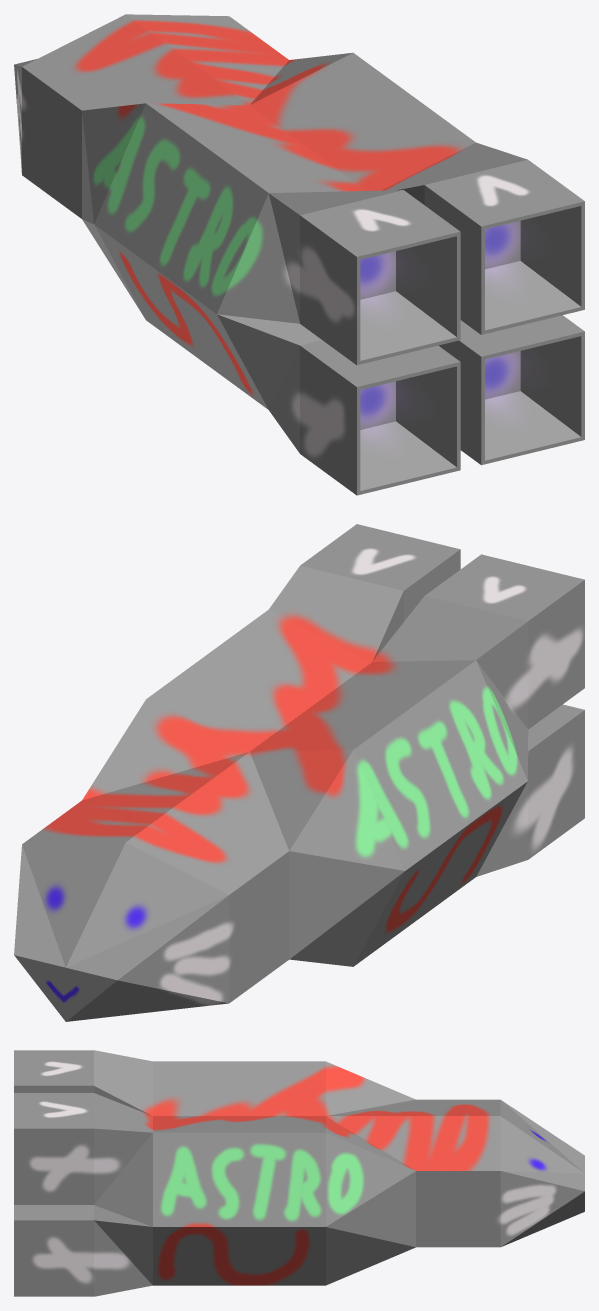
Rendered from playermodel_3d.glb.
3 views of the same model, one above another, from view 1: azimuth 30°, elevation 25°; view 2: azimuth 150°, elevation 25°; view 3: azimuth 270°, elevation 25° (orthographic). The views are drawn at different scales.
Visible parts, largest first — view 1: ship; view 2: ship; view 3: ship.
Boxes of the visible parts, x1=… form: ship: x1=14, y1=14, x2=584, y2=495; ship: x1=14, y1=524, x2=584, y2=1021; ship: x1=14, y1=1050, x2=584, y2=1296.
Bounding box in the file's own units: 6 × 4.4 × 13.54.
Materials: 1 (1 with a texture image).
